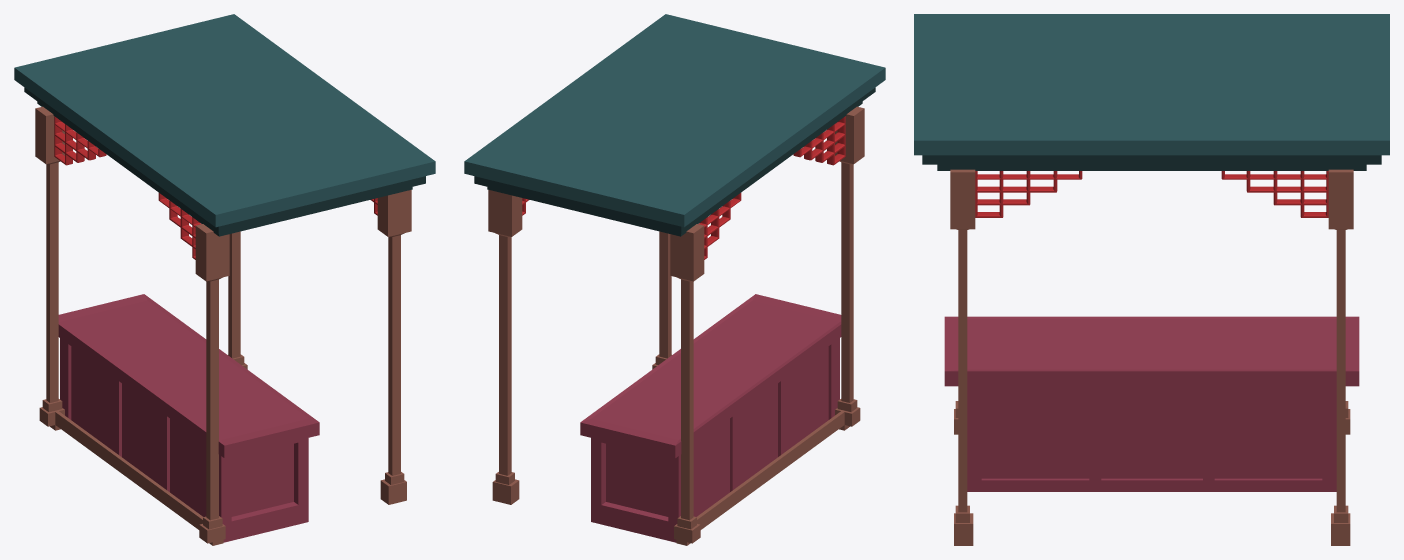
The model's file is Booth2.3.fbx.
3 renders of one model, left to right at view 1: azimuth 30°, elevation 25°; view 2: azimuth 150°, elevation 25°; view 3: azimuth 270°, elevation 25°, orthographic. The views are drawn at different scales.
Parts seen in each view (by area): view 1: Cube.001, body, Cube, body1, Cube.007, Cube.006; view 2: Cube.001, body, Cube, body1, Cube.007, Cube.006; view 3: Cube.001, body, Cube, Cube.007, Cube.006, body1.
Part boxes in pixels (x1,y1,x2,y2): Cube.001: (14,14,435,227); body: (58,294,319,542); Cube: (35,106,411,529); body1: (39,363,406,545); Cube.007: (24,87,425,236); Cube.006: (54,116,377,259); Cube.001: (464,14,885,227); body: (580,294,841,542); Cube: (488,106,864,529); body1: (492,363,860,545); Cube.007: (474,87,875,236); Cube.006: (522,116,845,259); Cube.001: (914,14,1389,155); body: (944,316,1359,491); Cube: (950,169,1353,522); Cube.007: (922,155,1381,170); Cube.006: (975,171,1328,217); body1: (954,409,1350,545).
Bounding box in the file's own units: 315 × 478 × 499.
